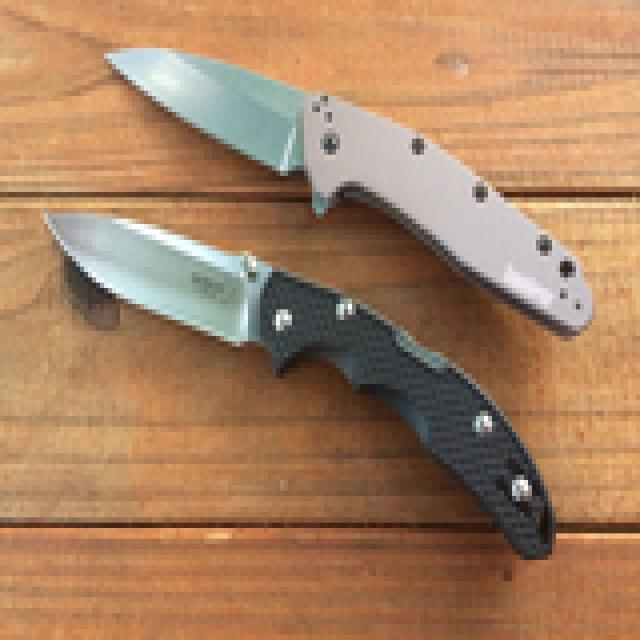Knife: (38, 13, 596, 561)
